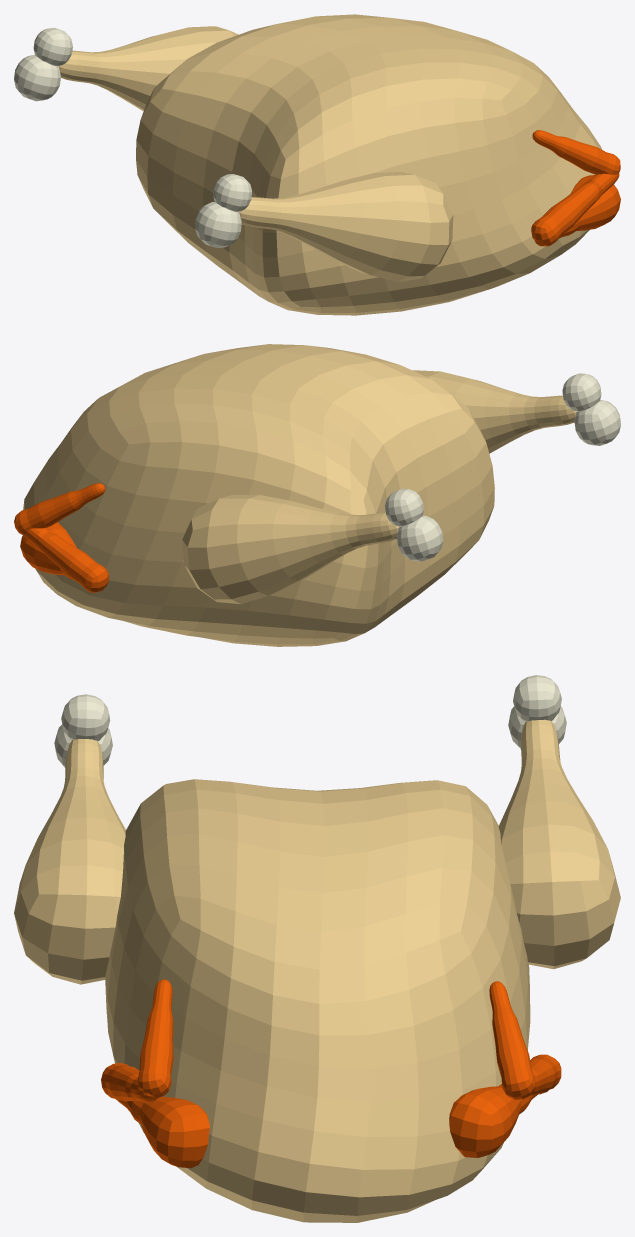
File: food_Turkey.fbx
The picture shows the model from 3 angles, top to bottom: view 1: azimuth 30°, elevation 25°; view 2: azimuth 150°, elevation 25°; view 3: azimuth 270°, elevation 25°; orthographic projection. The views are drawn at different scales.
Parts seen in each view (by area): view 1: Cube, drumstickMeat, drumstickMeat.001, windMid.001, wingTop.001, drumstickBoneBottom, drumstickBoneBottom.001, wingBase.001, drumstickBoneTop.001, drumstickBoneTop; view 2: Cube, drumstickMeat.001, drumstickMeat, windMid, wingTop, drumstickBoneBottom.001, drumstickBoneBottom, drumstickBoneTop, drumstickBoneTop.001, wingBase; view 3: Cube, drumstickMeat.001, drumstickMeat, wingBase.001, wingBase, wingTop, wingTop.001, drumstickBoneTop.001, drumstickBoneTop, windMid.001, windMid, drumstickBoneBottom (+1 smaller).
Part boxes in pixels (x1=…): Cube: x1=136, y1=14, x2=602, y2=315; drumstickMeat: x1=238, y1=172, x2=453, y2=281; drumstickMeat.001: x1=58, y1=26, x2=238, y2=111; windMid.001: x1=531, y1=172, x2=619, y2=246; wingTop.001: x1=532, y1=130, x2=620, y2=174; drumstickBoneBottom: x1=195, y1=202, x2=241, y2=247; drumstickBoneBottom.001: x1=14, y1=55, x2=60, y2=101; wingBase.001: x1=534, y1=175, x2=620, y2=246; drumstickBoneTop.001: x1=33, y1=27, x2=72, y2=66; drumstickBoneTop: x1=213, y1=174, x2=251, y2=212; Cube: x1=22, y1=344, x2=494, y2=646; drumstickMeat.001: x1=182, y1=495, x2=399, y2=604; drumstickMeat: x1=412, y1=370, x2=576, y2=453; windMid: x1=24, y1=528, x2=109, y2=592; wingTop: x1=14, y1=483, x2=105, y2=535; drumstickBoneBottom.001: x1=396, y1=515, x2=443, y2=561; drumstickBoneBottom: x1=574, y1=400, x2=620, y2=445; drumstickBoneTop: x1=562, y1=373, x2=601, y2=411; drumstickBoneTop.001: x1=385, y1=488, x2=423, y2=526; wingBase: x1=20, y1=522, x2=76, y2=579; Cube: x1=105, y1=779, x2=530, y2=1222; drumstickMeat.001: x1=498, y1=719, x2=620, y2=969; drumstickMeat: x1=14, y1=739, x2=125, y2=984; wingBase.001: x1=116, y1=1096, x2=209, y2=1168; wingBase: x1=449, y1=1084, x2=537, y2=1157; wingTop: x1=489, y1=981, x2=535, y2=1099; wingTop.001: x1=137, y1=979, x2=173, y2=1097; drumstickBoneTop.001: x1=513, y1=675, x2=561, y2=721; drumstickBoneTop: x1=61, y1=694, x2=110, y2=740; windMid.001: x1=101, y1=1062, x2=157, y2=1102; windMid: x1=530, y1=1054, x2=561, y2=1095; drumstickBoneBottom: x1=54, y1=724, x2=112, y2=767.
Bounding box in the file's own units: 838 × 421 × 702.
